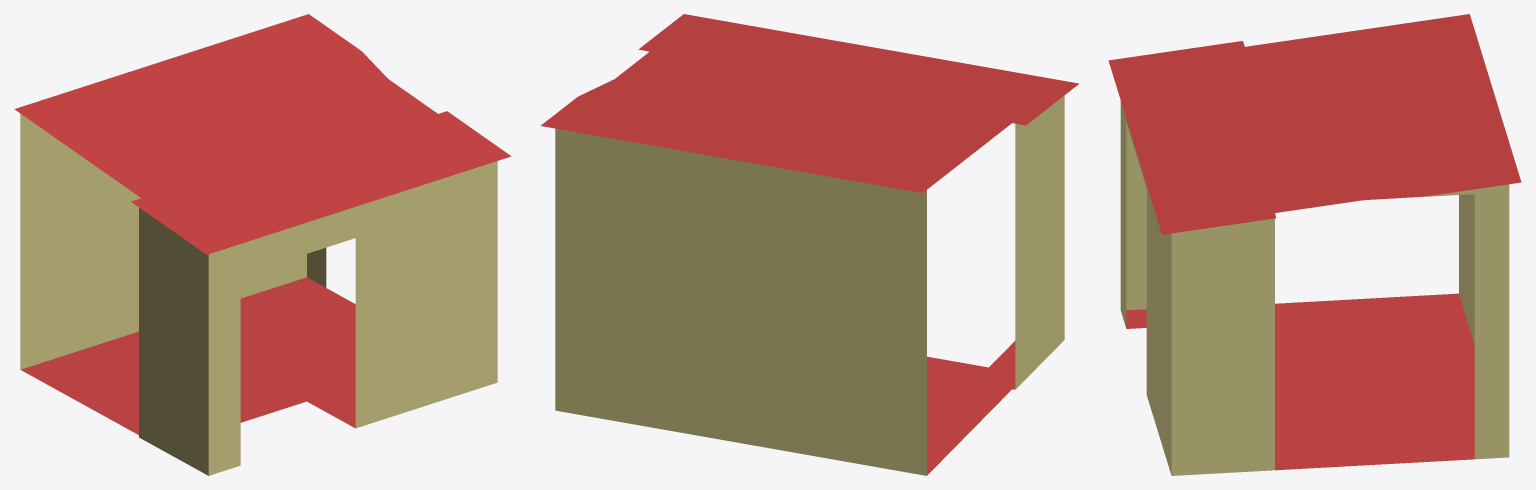
The picture shows the model from 3 angles, left to right: view 1: azimuth 30°, elevation 25°; view 2: azimuth 150°, elevation 25°; view 3: azimuth 270°, elevation 25°; orthographic projection. The views are drawn at different scales.
Size of the model in its own units: 10.1 by 9.37 by 6.98.
